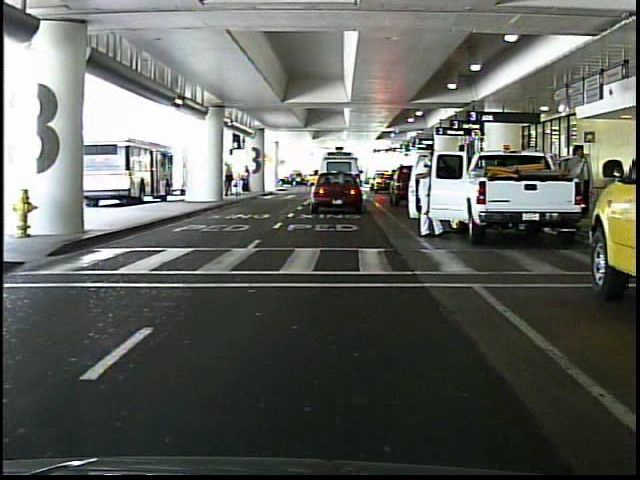person: (413, 143, 448, 241), (560, 141, 595, 222), (223, 160, 236, 198), (240, 164, 255, 195)
